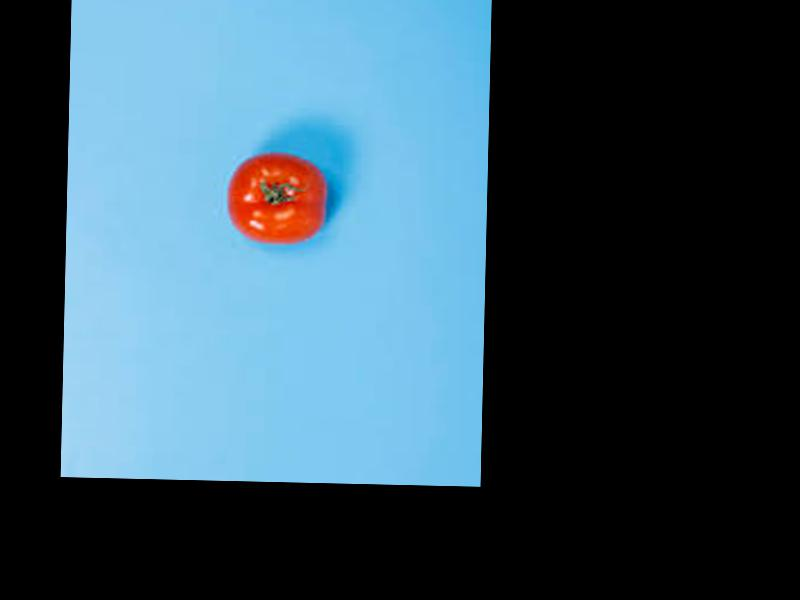Tomato: (224, 148, 327, 244)
